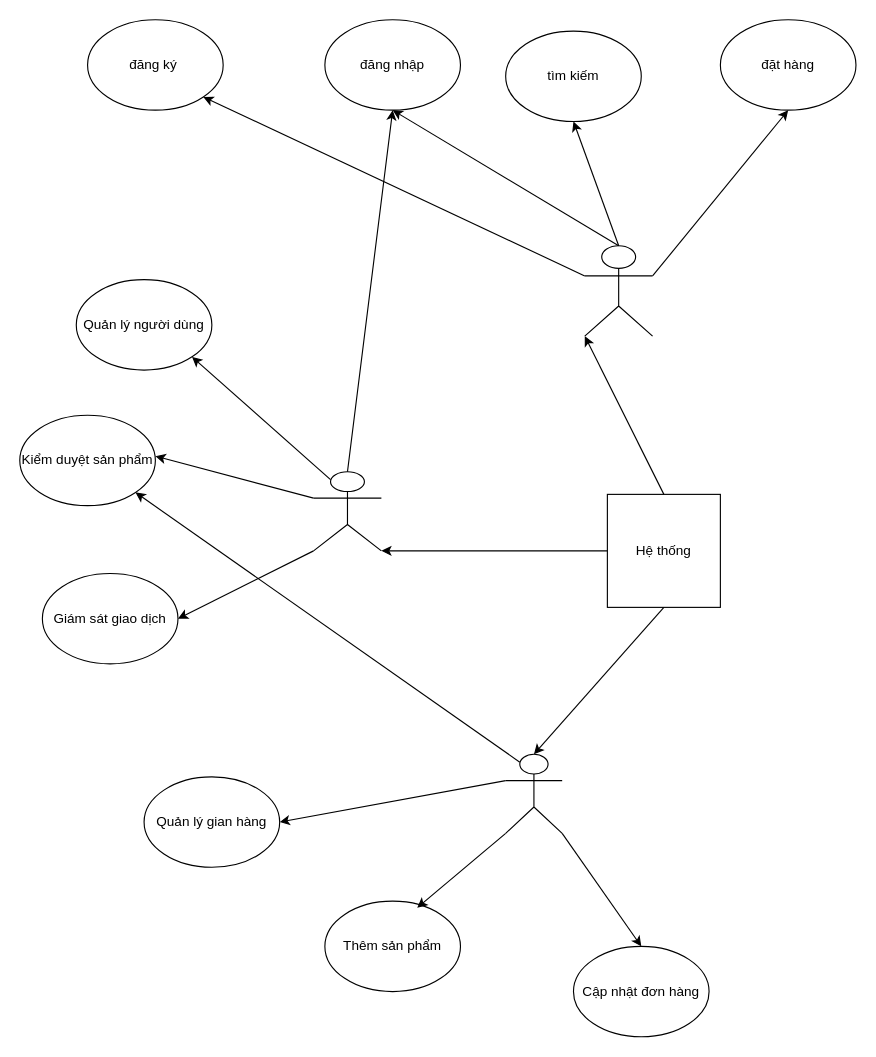
Image size: 876x1057. Some labels were removed from this diagram. The centre of each missing label's shape, as x and y in pixels:
Admin: pixel 346 511
Customer: pixel 618 290
Seller: pixel 533 793
